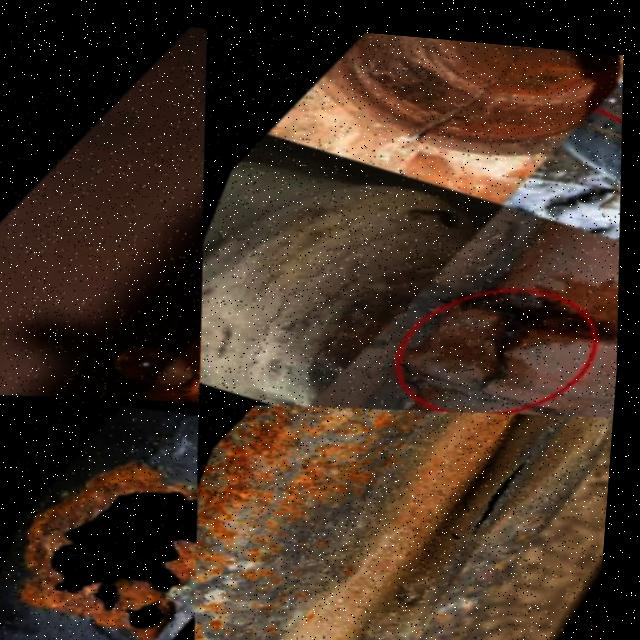crack: (376, 50, 489, 135), (452, 432, 522, 531), (468, 296, 529, 377), (553, 106, 622, 140)
hole: (1, 439, 213, 640), (112, 583, 186, 635)
